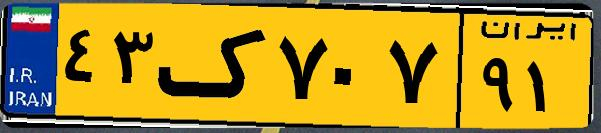0: (330, 28, 385, 110)
1: (525, 38, 570, 115)
3: (110, 28, 158, 98)
4: (57, 26, 110, 100)
7: (270, 28, 330, 110), (385, 28, 445, 110)
9: (475, 38, 525, 113)
ک: (158, 12, 270, 120)
